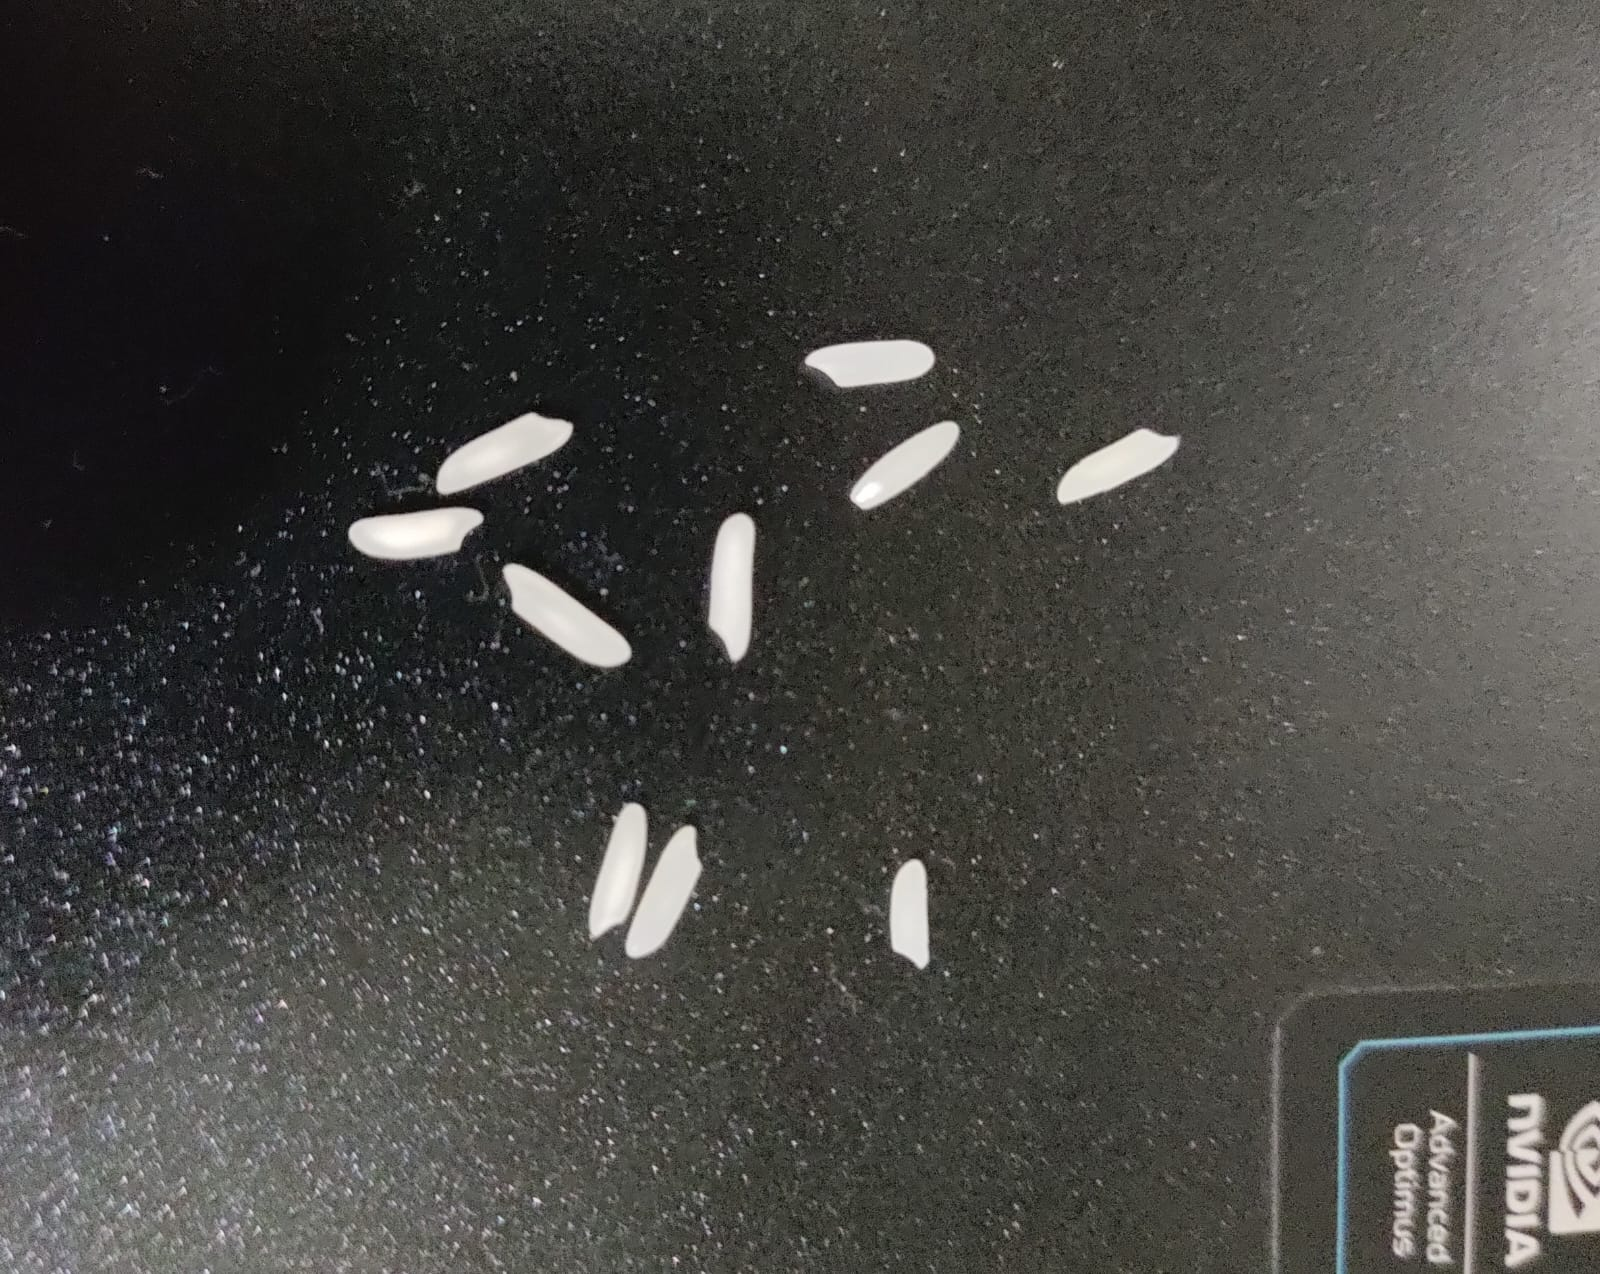complete_grain: (497, 553, 635, 680), (614, 816, 726, 952), (427, 403, 578, 500), (1048, 418, 1185, 515), (839, 417, 973, 510), (585, 781, 654, 953), (333, 497, 486, 568), (706, 501, 767, 671), (883, 856, 957, 981), (797, 333, 941, 392)
